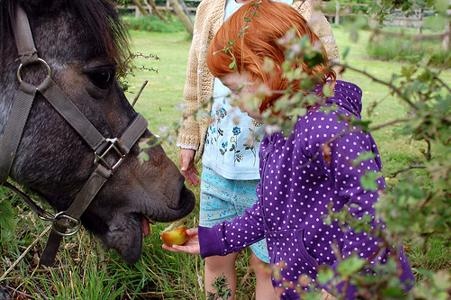person: (158, 2, 412, 300)
